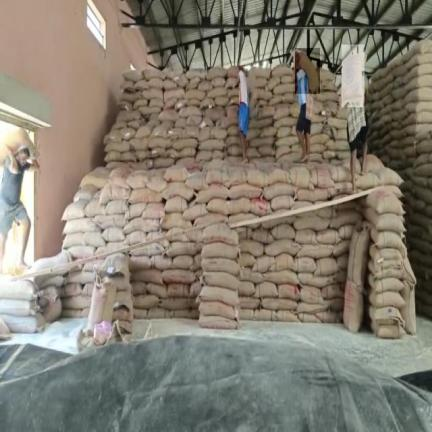Zone-Counting: (0, 128, 38, 272), (342, 45, 367, 192), (295, 51, 318, 161), (238, 70, 248, 137)
